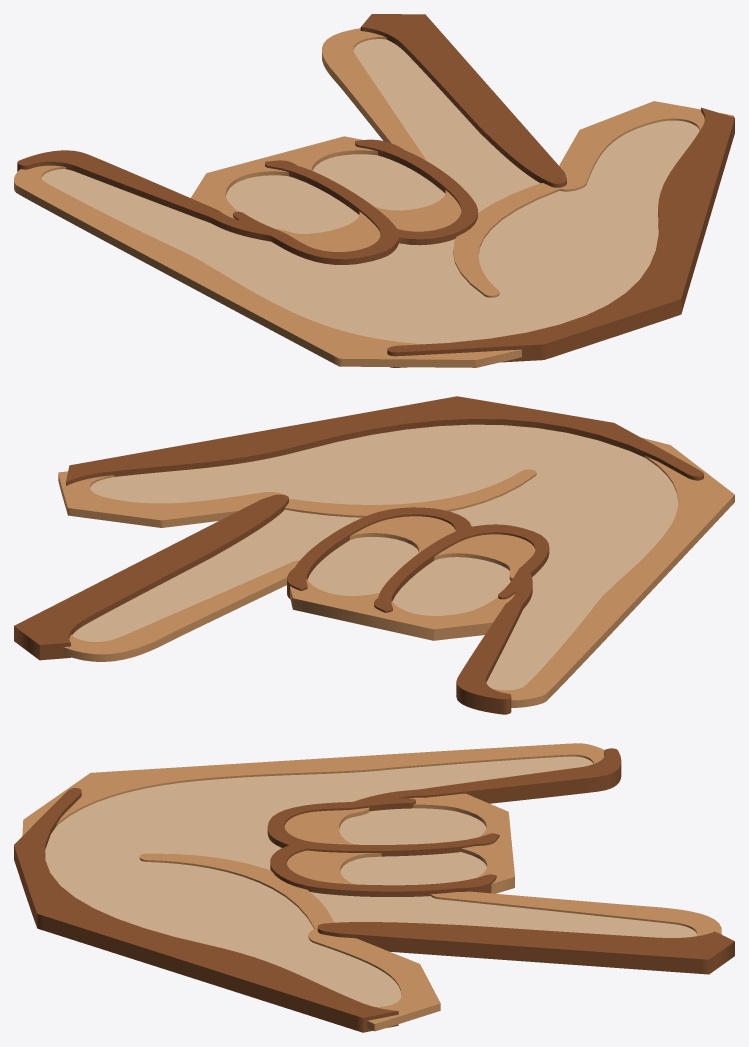
Rendered from emoji_u1f91f_1f3fc.glb.
3 renders of one model, top to bottom at view 1: azimuth 30°, elevation 25°; view 2: azimuth 150°, elevation 25°; view 3: azimuth 270°, elevation 25°, orthographic. The views are drawn at different scales.
Parts seen in each view (by area): view 1: emoji_u1f91f_1f3fc; view 2: emoji_u1f91f_1f3fc; view 3: emoji_u1f91f_1f3fc.
Boxes of the visible parts, bbox=[...] form: emoji_u1f91f_1f3fc: bbox=[14, 14, 734, 367]; emoji_u1f91f_1f3fc: bbox=[14, 396, 734, 714]; emoji_u1f91f_1f3fc: bbox=[14, 743, 734, 1032].
Bounding box in the file's own units: 0.0326 × 0.0008 × 0.0353.
